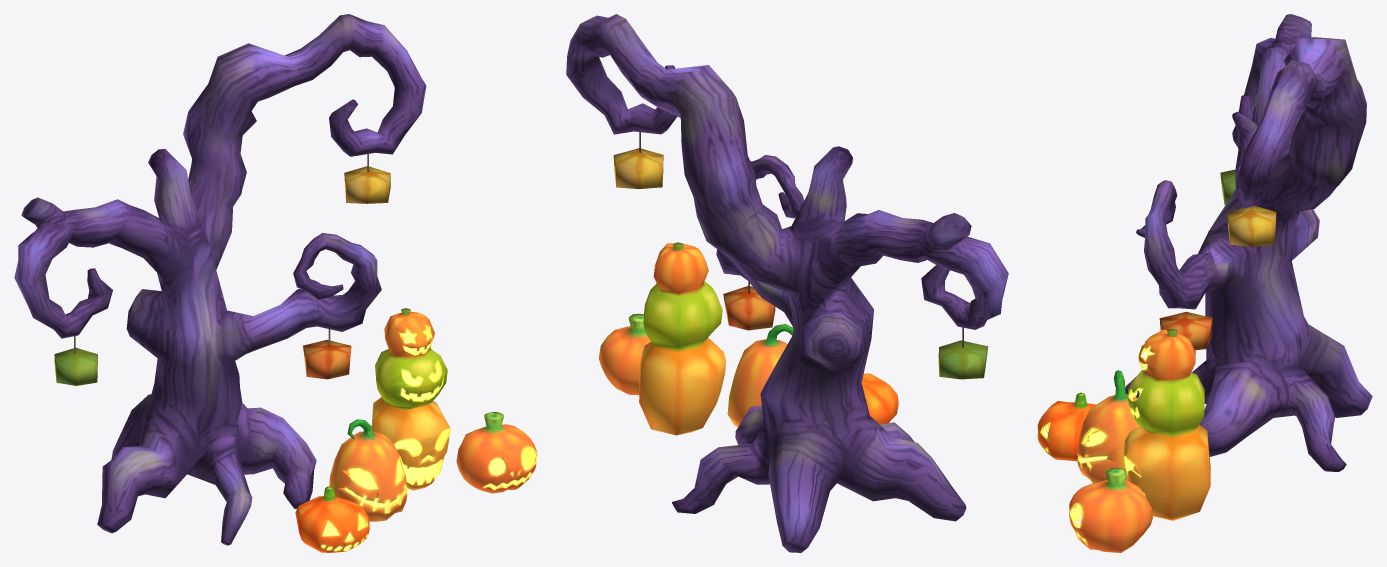
The model's file is jack-o-lantern_low-poly.glb.
3 renders of one model, left to right at view 1: azimuth 30°, elevation 25°; view 2: azimuth 150°, elevation 25°; view 3: azimuth 270°, elevation 25°, orthographic. The views are drawn at different scales.
Visible parts, largest first — view 1: Jack_tree, jack_tower, Jack_o_lerntern_long, Jack_tree_pumpkin, Jack_o_lerntern, Jack_o_lerntern_oblong; view 2: Jack_tree, jack_tower, Jack_tree_pumpkin, Jack_o_lerntern_long, Jack_o_lerntern, Jack_o_lerntern_oblong; view 3: Jack_tree, jack_tower, Jack_o_lerntern, Jack_o_lerntern_long, Jack_tree_pumpkin, Jack_o_lerntern_oblong.
Boxes of the visible parts, bbox=[...] form: Jack_tree: bbox=[14, 14, 426, 545]; jack_tower: bbox=[371, 308, 450, 490]; Jack_o_lerntern_long: bbox=[329, 419, 407, 521]; Jack_tree_pumpkin: bbox=[54, 154, 390, 385]; Jack_o_lerntern: bbox=[456, 412, 537, 493]; Jack_o_lerntern_oblong: bbox=[295, 486, 369, 552]; Jack_tree: bbox=[566, 14, 1008, 552]; jack_tower: bbox=[639, 242, 726, 435]; Jack_tree_pumpkin: bbox=[613, 132, 988, 379]; Jack_o_lerntern_long: bbox=[727, 324, 793, 426]; Jack_o_lerntern: bbox=[598, 313, 650, 395]; Jack_o_lerntern_oblong: bbox=[861, 373, 898, 424]; Jack_tree: bbox=[1125, 14, 1372, 471]; jack_tower: bbox=[1124, 329, 1210, 520]; Jack_o_lerntern: bbox=[1069, 467, 1152, 552]; Jack_o_lerntern_long: bbox=[1077, 370, 1140, 483]; Jack_tree_pumpkin: bbox=[1159, 169, 1276, 350]; Jack_o_lerntern_oblong: bbox=[1037, 392, 1099, 461].
Size of the model in its own units: 5.27 by 4.87 by 3.25.
6 materials, 6 textured.
